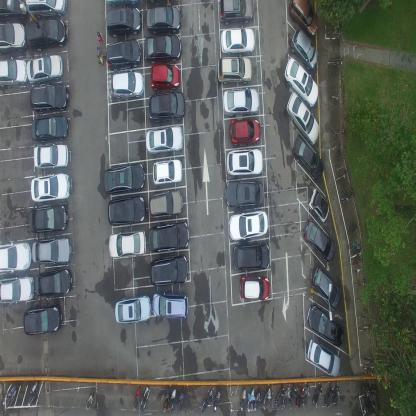car: (285, 91, 319, 145), (283, 57, 319, 106), (306, 303, 345, 344), (292, 135, 324, 182), (302, 218, 336, 262), (25, 18, 67, 52), (147, 220, 190, 253), (311, 263, 341, 310), (307, 337, 341, 378), (229, 208, 268, 242), (104, 163, 145, 195), (23, 302, 62, 334), (290, 27, 318, 71), (149, 254, 189, 284), (108, 195, 146, 226), (148, 92, 186, 123), (113, 294, 152, 324), (31, 173, 70, 203), (148, 190, 184, 222), (26, 53, 62, 85), (105, 37, 141, 69), (146, 126, 183, 157), (288, 0, 318, 38), (104, 6, 142, 36), (32, 237, 72, 265), (109, 229, 145, 260), (144, 34, 181, 64), (36, 268, 74, 297), (30, 83, 68, 112), (226, 147, 262, 177), (232, 243, 269, 272), (32, 204, 69, 233), (225, 180, 263, 207), (0, 241, 32, 273), (0, 274, 35, 303), (222, 88, 260, 114), (217, 56, 252, 84), (220, 28, 256, 55), (31, 114, 67, 141), (146, 5, 182, 32), (151, 292, 188, 318), (229, 116, 261, 146), (111, 70, 144, 99), (218, 0, 253, 27), (34, 143, 68, 169), (239, 275, 269, 302), (0, 58, 27, 88), (150, 64, 180, 91), (0, 22, 25, 54), (152, 161, 182, 187), (308, 187, 330, 222), (26, 0, 68, 17)
